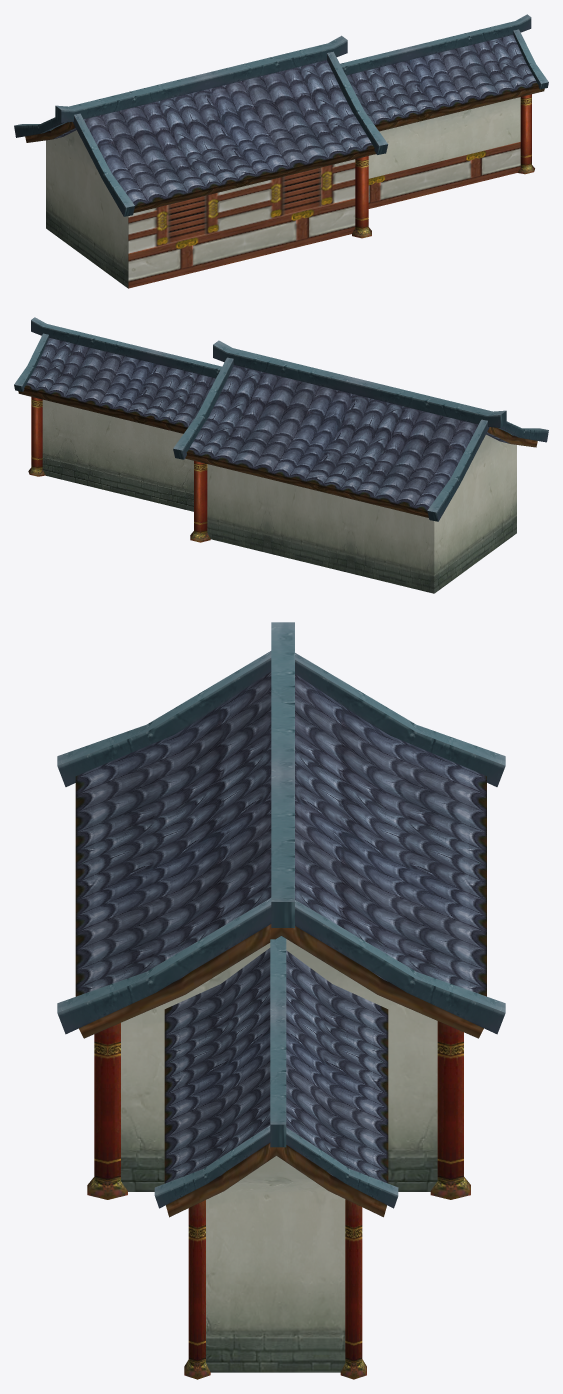
The model's file is szc_building_10a.FBX.
3 renders of one model, top to bottom at view 1: azimuth 30°, elevation 25°; view 2: azimuth 150°, elevation 25°; view 3: azimuth 270°, elevation 25°, orthographic. The views are drawn at different scales.
Parts seen in each view (by area): view 1: szc_building_08_liang001; view 2: szc_building_08_liang001; view 3: szc_building_08_liang001.
Boxes of the visible parts, x1,y1,x2,y2 form: szc_building_08_liang001: (14,14,548,288); szc_building_08_liang001: (14,317,548,593); szc_building_08_liang001: (57,622,505,1379).
Bounding box in the file's own units: 683 × 219 × 282.
